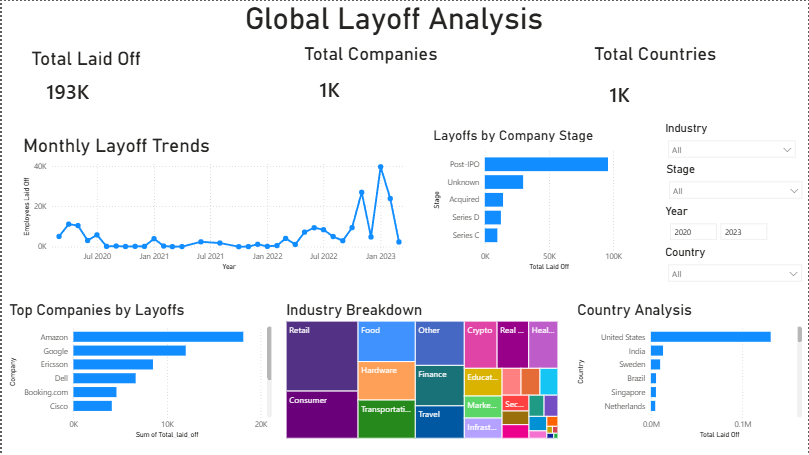

What the dashboard file says about the page in this screenshot:
{"tool":"powerbi","page":{"name":"Page 1","canvas":[1280,720],"ordinal":0},"visuals":[{"type":"cardVisual","title":"Total Laid Off","fields":{"Data":["Sum(layoffs_new.Total_laid_off)"]},"box":[40.7,72.9,279.7,101.7],"z":0},{"type":"lineChart","title":"Monthly Layoff Trends","fields":{"Category":["layoffs_new.Date.Variation.Date Hierarchy.Year","layoffs_new.Date.Variation.Date Hierarchy.Month"],"Y":["Sum(layoffs_new.Total_laid_off)"]},"box":[28.8,211.9,630.5,222],"z":1000},{"type":"clusteredBarChart","title":"Top Companies by Layoffs","fields":{"Category":["layoffs_new.Company"],"Y":["Sum(layoffs_new.Total_laid_off)"]},"box":[5.7,475.7,427.1,222.9],"z":2000},{"type":"treemap","title":"Industry Breakdown","fields":{"Group":["layoffs_new.Industry"],"Values":["Sum(layoffs_new.Total_laid_off)"]},"box":[445.7,475.7,441.4,222.9],"z":3000},{"type":"clusteredBarChart","title":"Country Analysis","fields":{"Category":["layoffs_new.Country"],"Y":["Sum(layoffs_new.Total_laid_off)"]},"box":[907.1,475.7,367.1,222.9],"z":4000},{"type":"slicer","title":"Country","fields":{"Values":["layoffs_new.Country"]},"box":[1048.2,387.3,231.8,71.8],"z":5000},{"type":"slicer","title":"Industry","fields":{"Values":["layoffs_new.Industry"]},"box":[1048.2,190,221.8,65.5],"z":6000},{"type":"slicer","title":"Stage","fields":{"Values":["layoffs_new.Stage"]},"box":[1048.6,255.7,231.4,58.6],"z":7000},{"type":"slicer","title":"Year","fields":{"Values":["layoffs_new.Date.Variation.Date Hierarchy.Year"]},"box":[1048.2,322.7,231.8,64.5],"z":8000},{"type":"cardVisual","title":"Total Companies","fields":{"Data":["CountNonNull(layoffs_new.Company)"]},"box":[474.6,66.1,332.2,108.5],"z":9000},{"type":"cardVisual","title":"Total Countries","fields":{"Data":["CountNonNull(layoffs_new.Country)"]},"box":[935.6,66.1,310.2,123.7],"z":10000},{"type":"textbox","title":"Global Layoff Analysis","box":[381.4,0,484.7,59.3],"z":11000},{"type":"clusteredBarChart","title":"Layoffs by Company Stage","fields":{"Category":["layoffs_new.Stage"],"Y":["Sum(layoffs_new.Total_laid_off)"]},"box":[678.6,200,310,232.9],"z":11001}]}

Visuals, with their boxes in screenshot pixels (x1, y1, x2, y2), scaled from the page's 1280x720 canvas onto the 809x455 screenshot:
"Total Laid Off" cardVisual: region(26, 46, 203, 110)
"Monthly Layoff Trends" lineChart: region(18, 134, 417, 274)
"Top Companies by Layoffs" clusteredBarChart: region(4, 301, 274, 441)
"Industry Breakdown" treemap: region(282, 301, 561, 441)
"Country Analysis" clusteredBarChart: region(573, 301, 805, 441)
"Country" slicer: region(662, 245, 808, 290)
"Industry" slicer: region(662, 120, 803, 161)
"Stage" slicer: region(663, 162, 808, 199)
"Year" slicer: region(662, 204, 808, 245)
"Total Companies" cardVisual: region(300, 42, 510, 110)
"Total Countries" cardVisual: region(591, 42, 787, 120)
"Global Layoff Analysis" textbox: region(241, 0, 547, 37)
"Layoffs by Company Stage" clusteredBarChart: region(429, 126, 625, 274)
